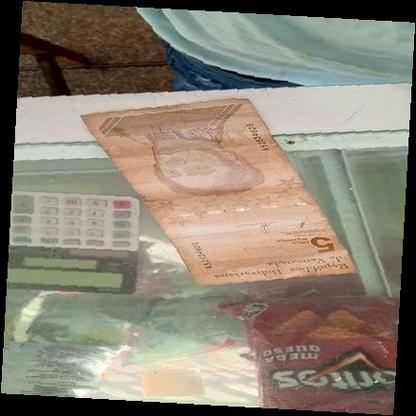five-front-vef: (79, 97, 360, 288)
